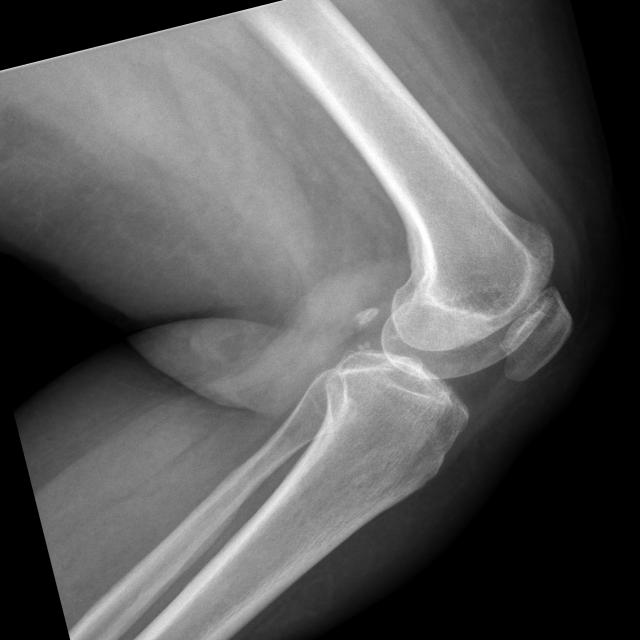Knee: (294, 212, 602, 492)
